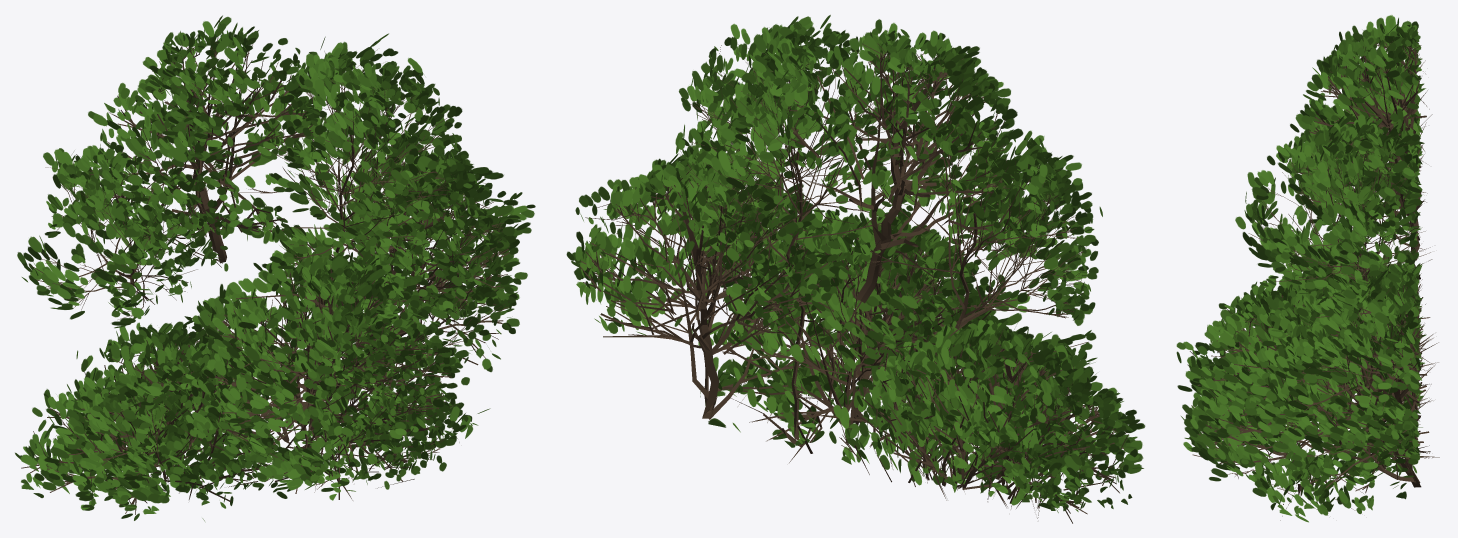
3 views of the same model, side by side, from view 1: azimuth 30°, elevation 25°; view 2: azimuth 150°, elevation 25°; view 3: azimuth 270°, elevation 25° (orthographic). The views are drawn at different scales.
Parts seen in each view (by area): view 1: oak 01.001_trunk_Mat.001_0.348; view 2: oak 01.001_trunk_Mat.001_0.348; view 3: oak 01.001_trunk_Mat.001_0.348.
Part boxes in pixels (<box>): oak 01.001_trunk_Mat.001_0.348: <box>15,15,535,521</box>; oak 01.001_trunk_Mat.001_0.348: <box>566,15,1145,523</box>; oak 01.001_trunk_Mat.001_0.348: <box>1176,15,1439,522</box>.
Size of the model in its own units: 5.22 by 4.21 by 2.45.
Materials: 2 (1 with a texture image).
